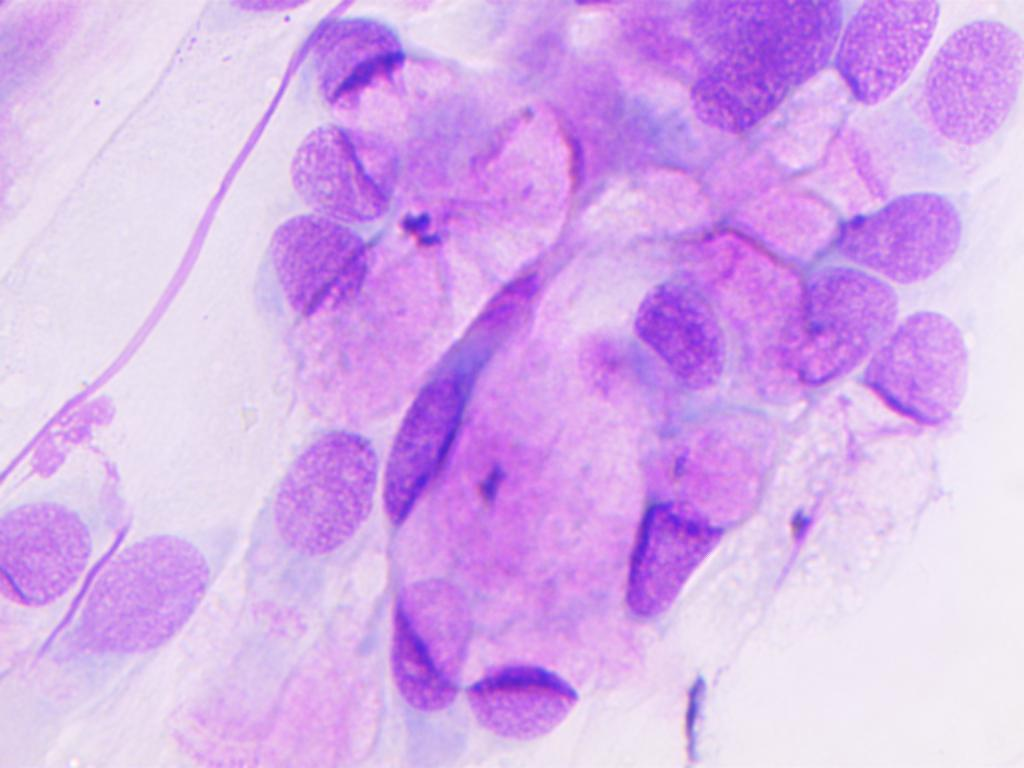epithelial: (226, 426, 382, 679), (663, 0, 846, 134), (75, 518, 210, 676), (920, 8, 1023, 159), (834, 182, 981, 284), (0, 471, 92, 618), (633, 270, 724, 412)
goblet_cell: (376, 358, 609, 525), (461, 499, 603, 753), (300, 9, 558, 134), (242, 219, 456, 350), (612, 428, 747, 631), (820, 301, 977, 474), (286, 115, 533, 218), (376, 490, 482, 726), (786, 246, 898, 426), (789, 1, 948, 122)
